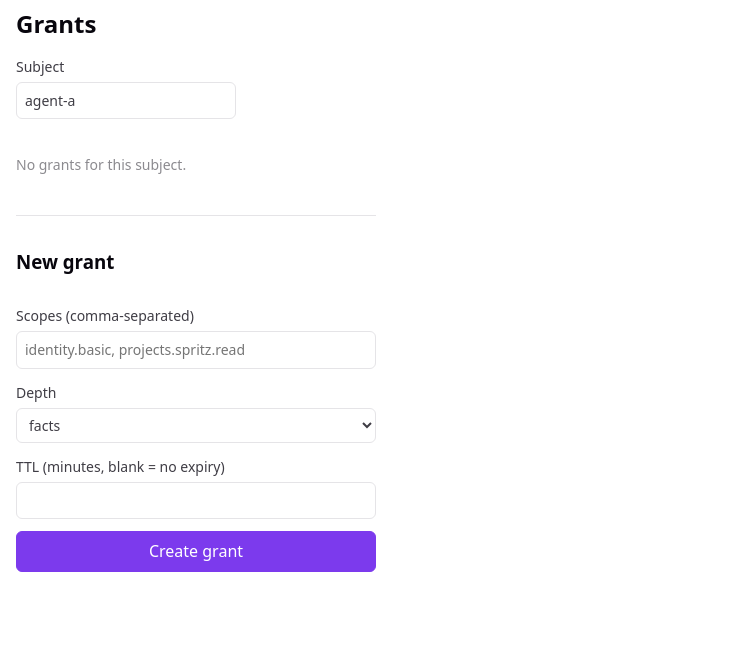
Test case: GrantsPage › rejects a non-numeric TTL instead of silently creating a permanent grant
In the field with placeholder "identity.basic, projects.spritz.read": [196, 350] box [16,332,376,369], type "identity.basic"
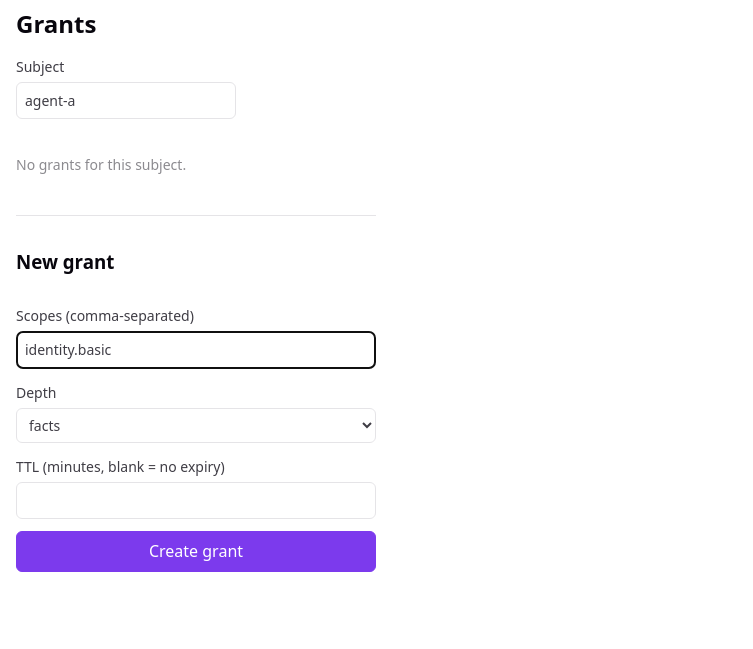
In the field labelled "TTL (minutes, blank = no expiry)": [196, 501] box [16,482,376,519], type "not-a-number"
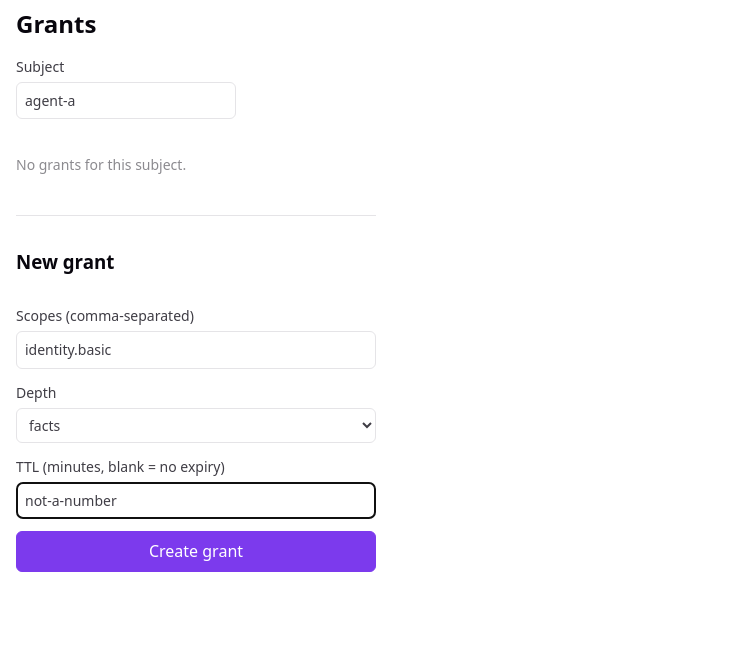
Click the button "Create grant": [196, 552] box [16,531,376,572]
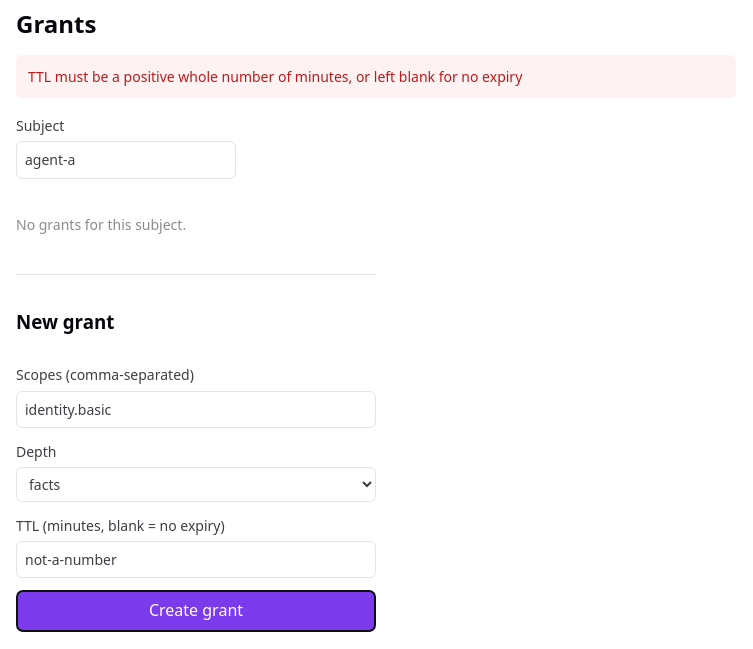
Expected: the text "TTL must be a positive whole number" is shown, [28,67,522,86]
